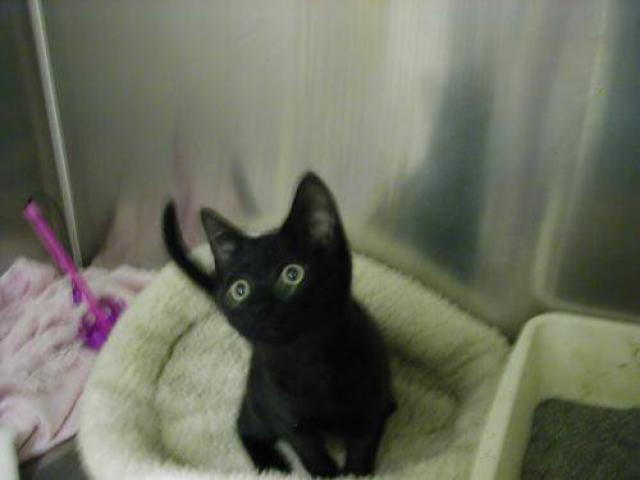cat: (150, 171, 398, 476)
